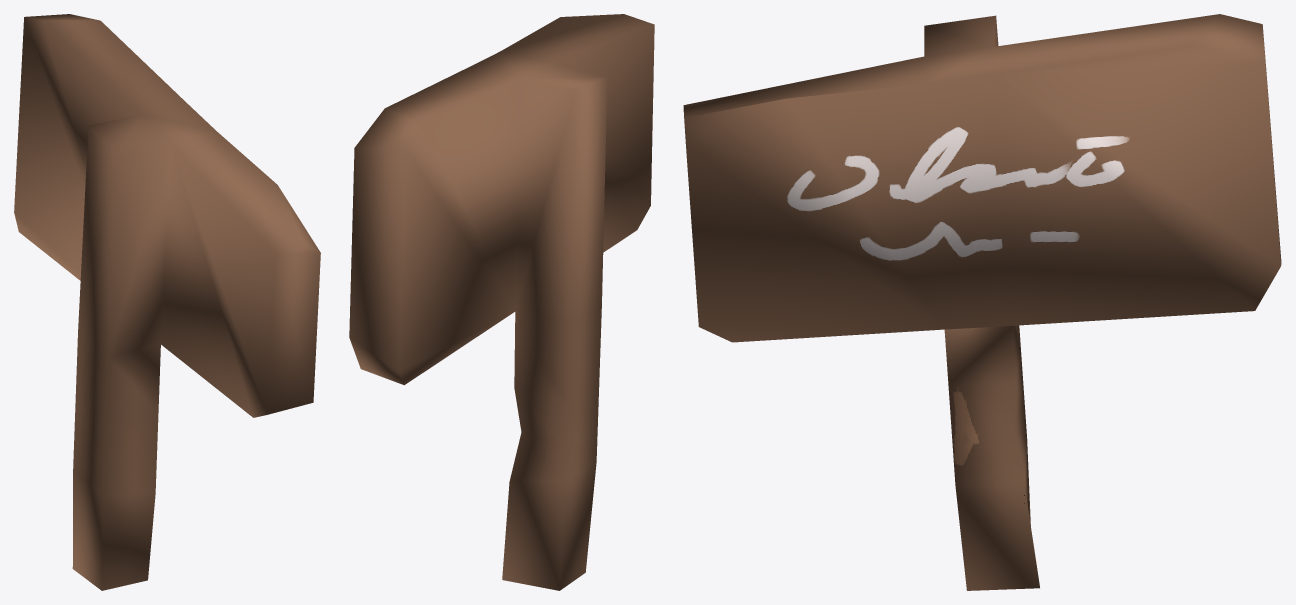
File: WoodenSign.fbx
3 renders of one model, left to right at view 1: azimuth 30°, elevation 25°; view 2: azimuth 150°, elevation 25°; view 3: azimuth 270°, elevation 25°, orthographic. The views are drawn at different scales.
Parts seen in each view (by area): view 1: Poly; view 2: Poly; view 3: Poly.
Part boxes in pixels (box(x1,y1,x2,y2)): Poly: box(14, 14, 320, 590); Poly: box(349, 14, 654, 590); Poly: box(683, 14, 1281, 590).
Size of the model in its own units: 372 by 396 by 90.6.
